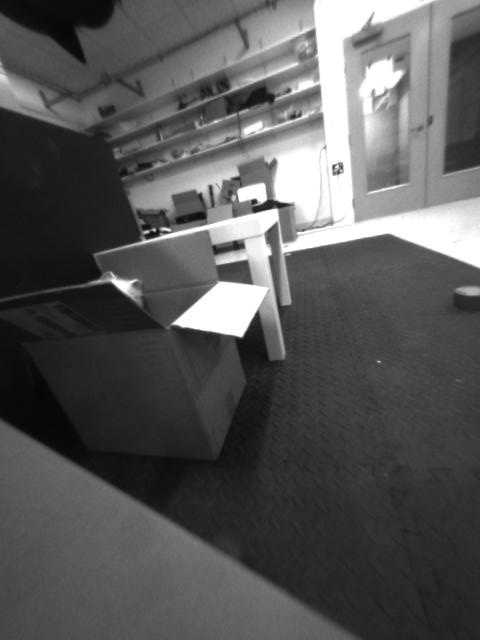dogtoy: (442, 276, 480, 316)
